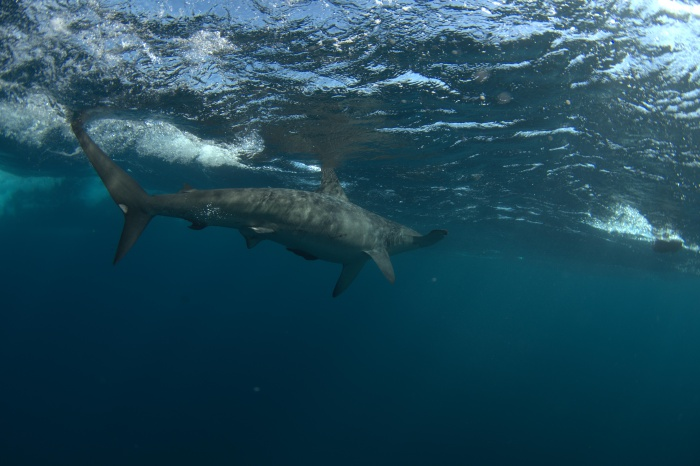Hammer: (45, 111, 463, 317)
